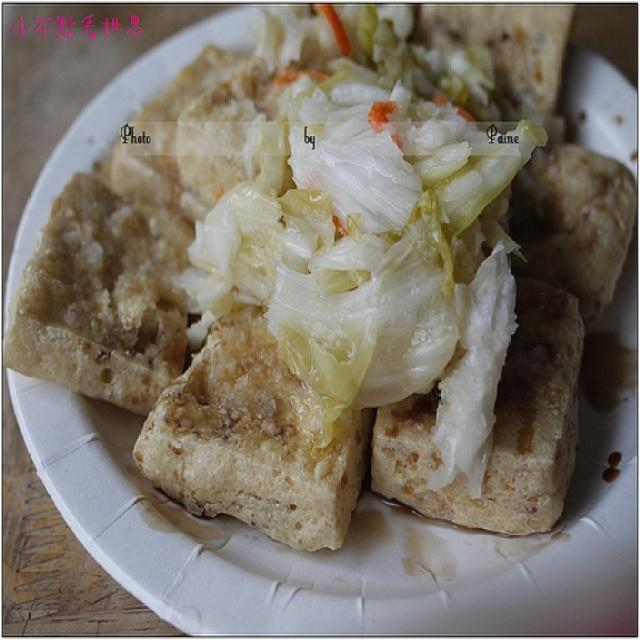豆腐料理: (1, 13, 630, 631)
